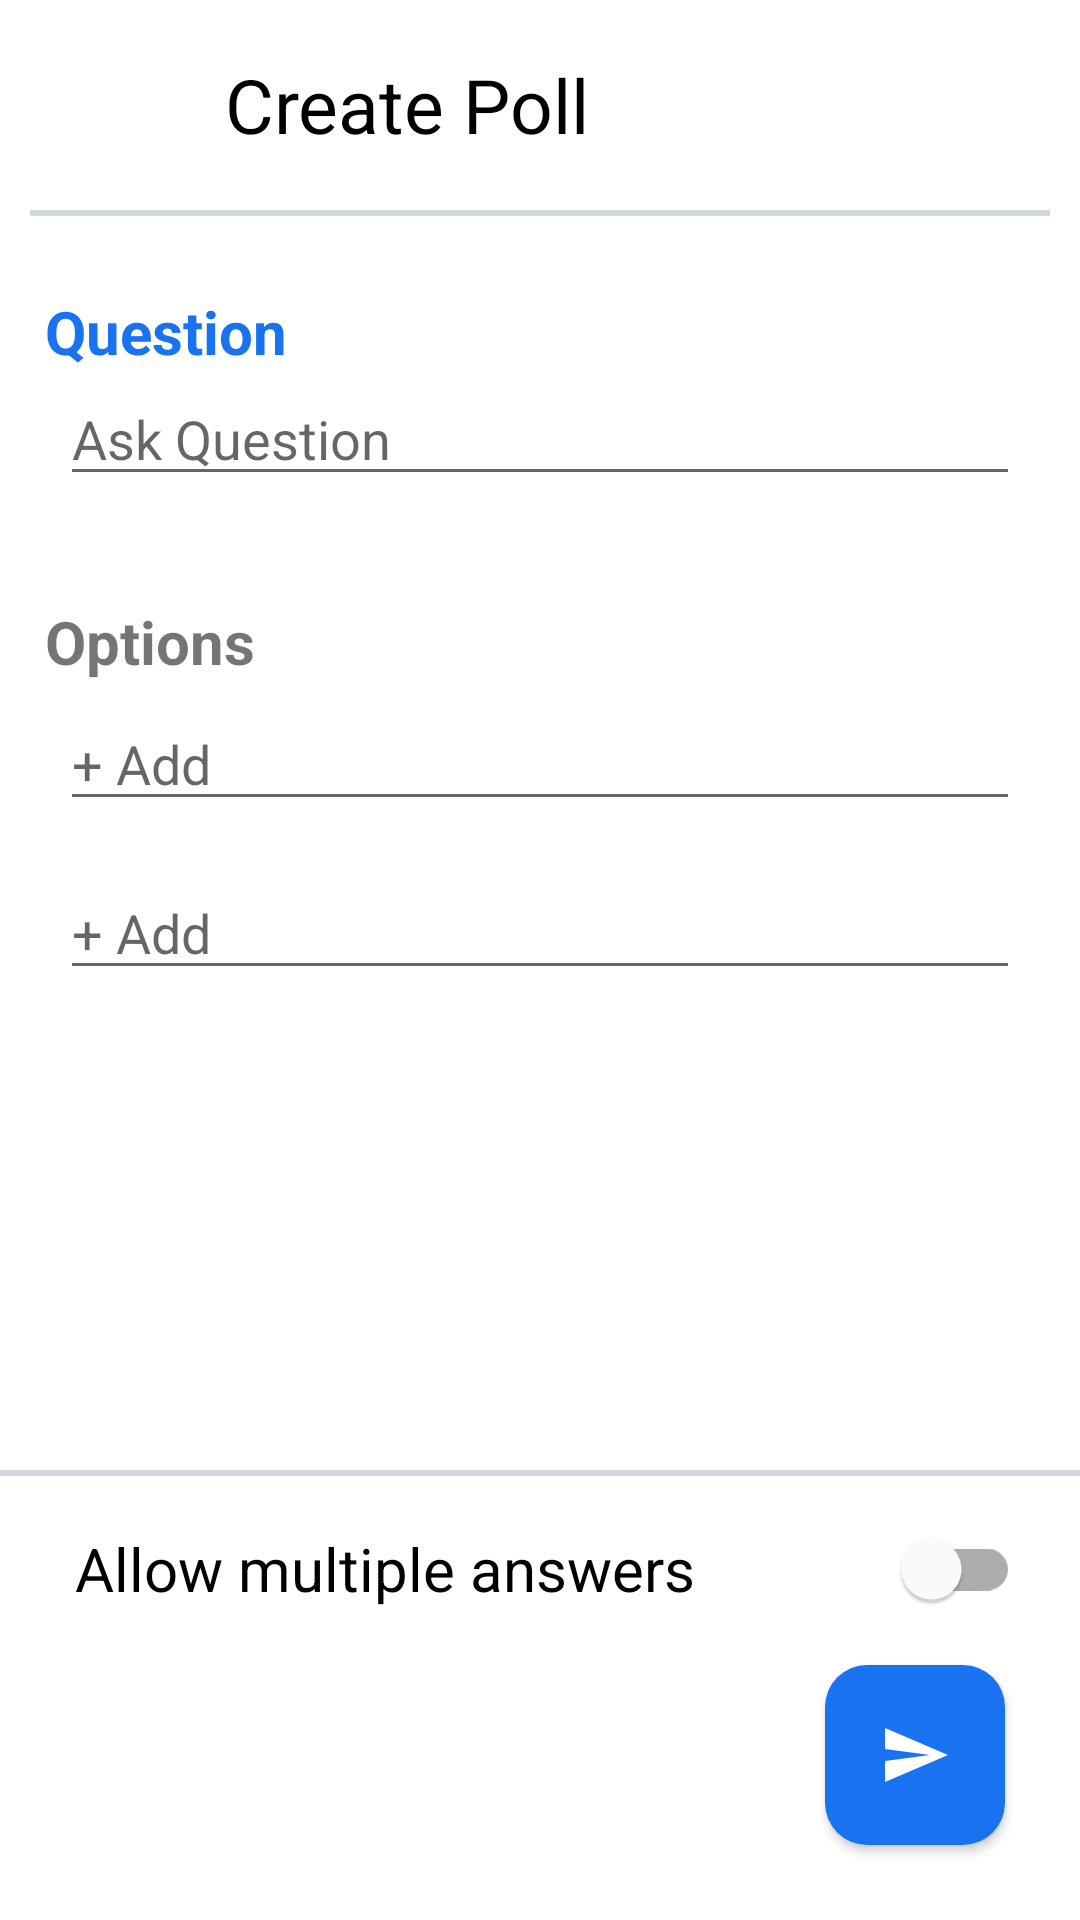

Named icons in this screenshot (1080*1920) and their bounding boxes, (x1, y1, x2, y2):
send 24white: (825, 1665, 1005, 1845)
